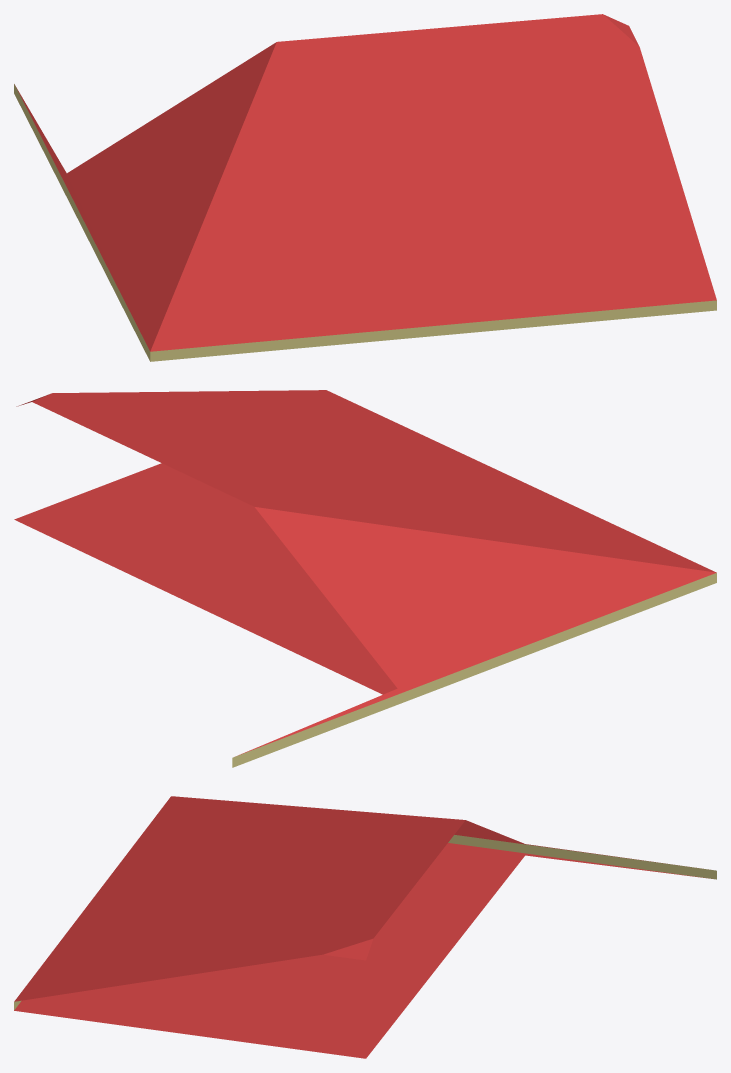
3 renders of one model, top to bottom at view 1: azimuth 30°, elevation 25°; view 2: azimuth 150°, elevation 25°; view 3: azimuth 270°, elevation 25°, orthographic. The views are drawn at different scales.
Bounding box in the file's own units: 6.09 × 7.13 × 1.25.
